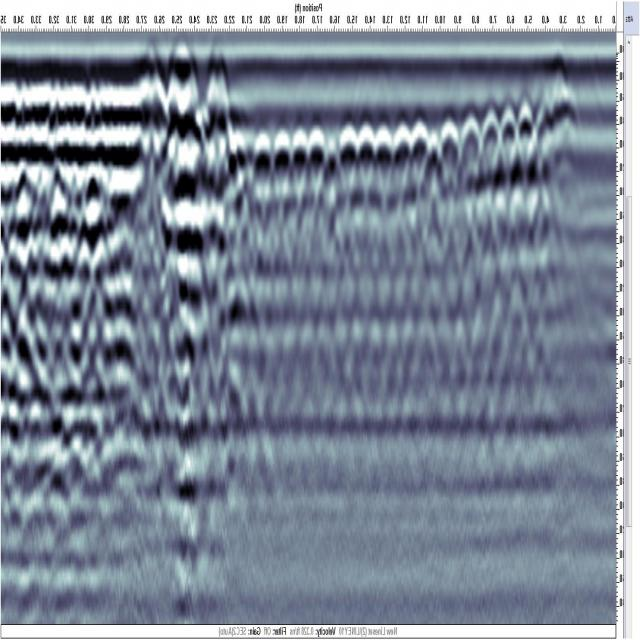hyperbola: (474, 104, 505, 184), (306, 119, 330, 209), (272, 127, 294, 209), (515, 98, 539, 173), (410, 120, 429, 208), (497, 106, 521, 174), (374, 121, 396, 192)
